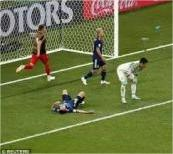bending: (111, 56, 152, 107)
down: (49, 84, 97, 119)
up: (12, 22, 59, 84), (77, 27, 111, 89)
